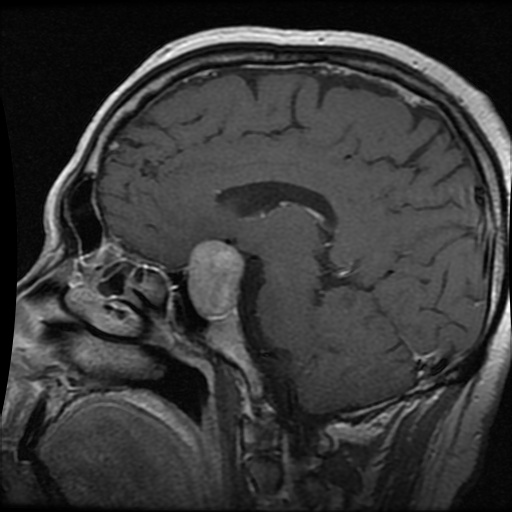pituitary: (186, 241, 243, 318)
